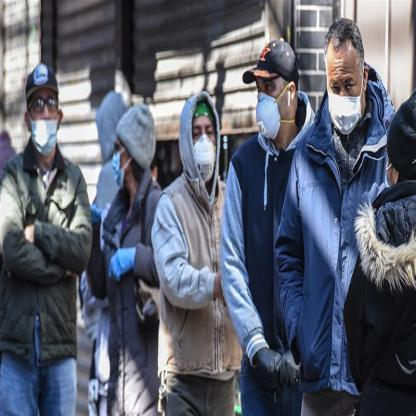Wearing_Mask: (248, 58, 290, 151), (325, 45, 365, 137), (178, 106, 221, 187), (24, 80, 62, 168), (110, 124, 146, 198)
